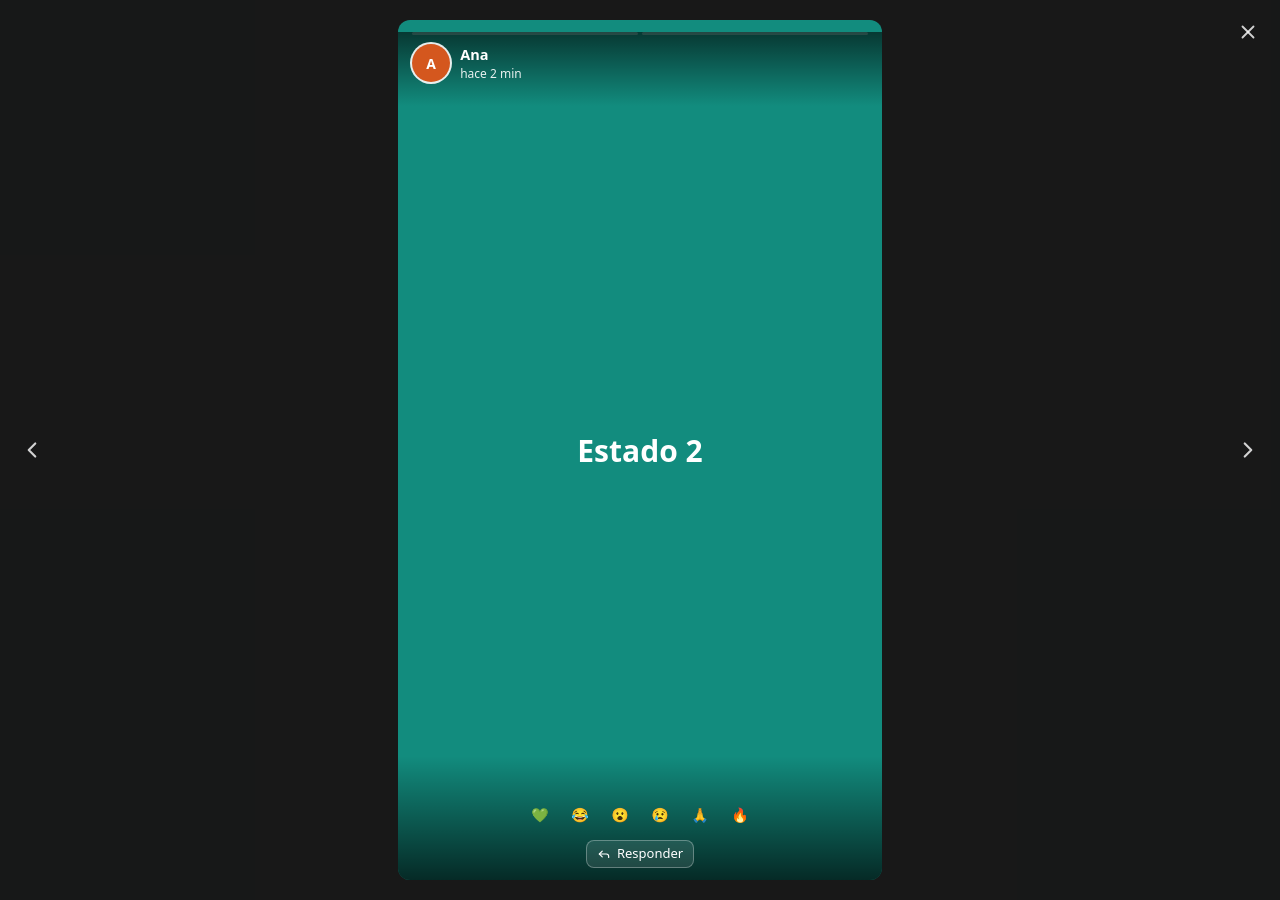
Test case: StoryViewer · pausa y teclado › un toque corto a la derecha avanza y a la izquierda retrocede
Press the mouse on the element with test id "story-stage" at (640, 450), box [398, 20, 882, 880]
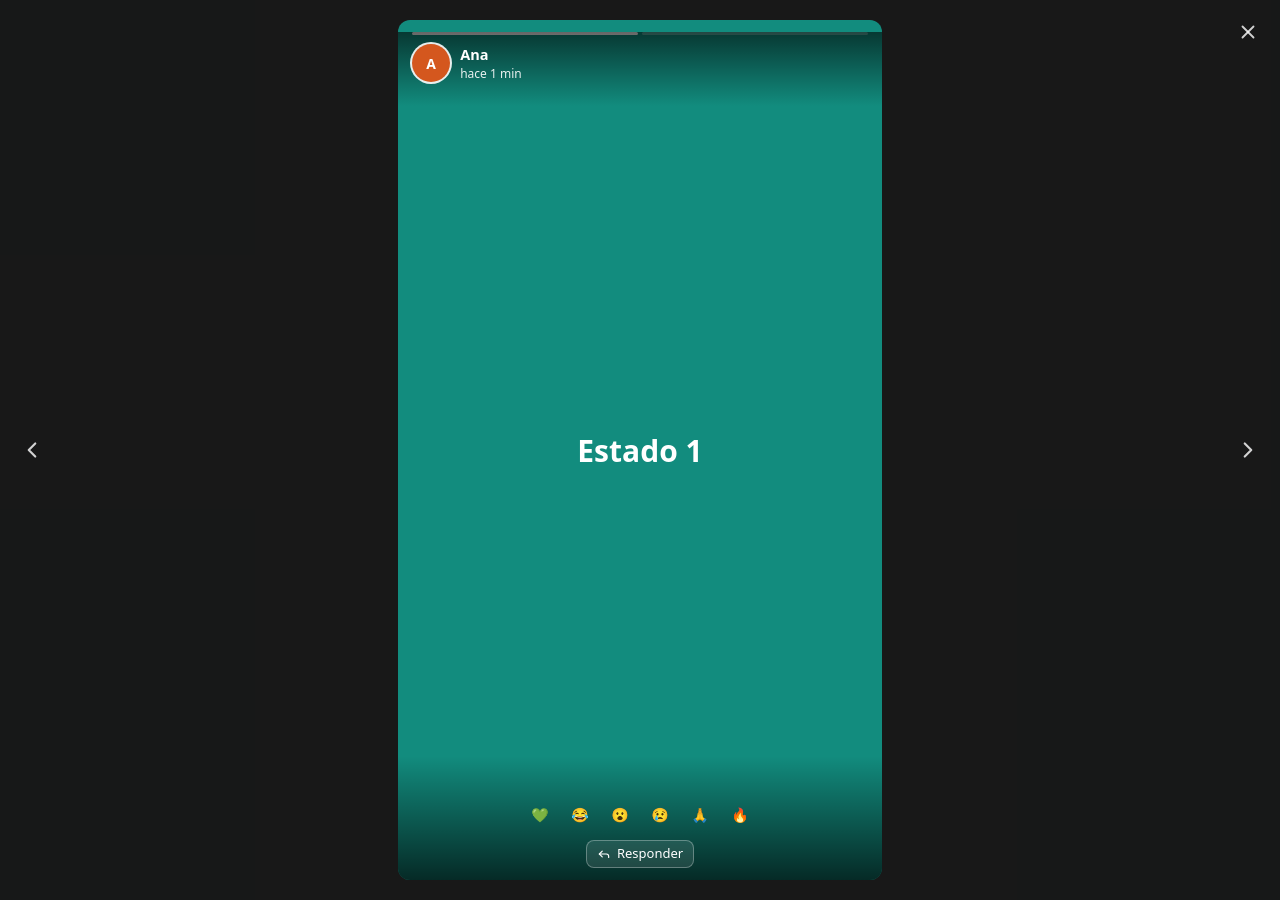
Now the dialog with test id "story-viewer" has attribute data-item="1"
Press the mouse on the element with test id "story-stage" at (640, 450), box [398, 20, 882, 880]
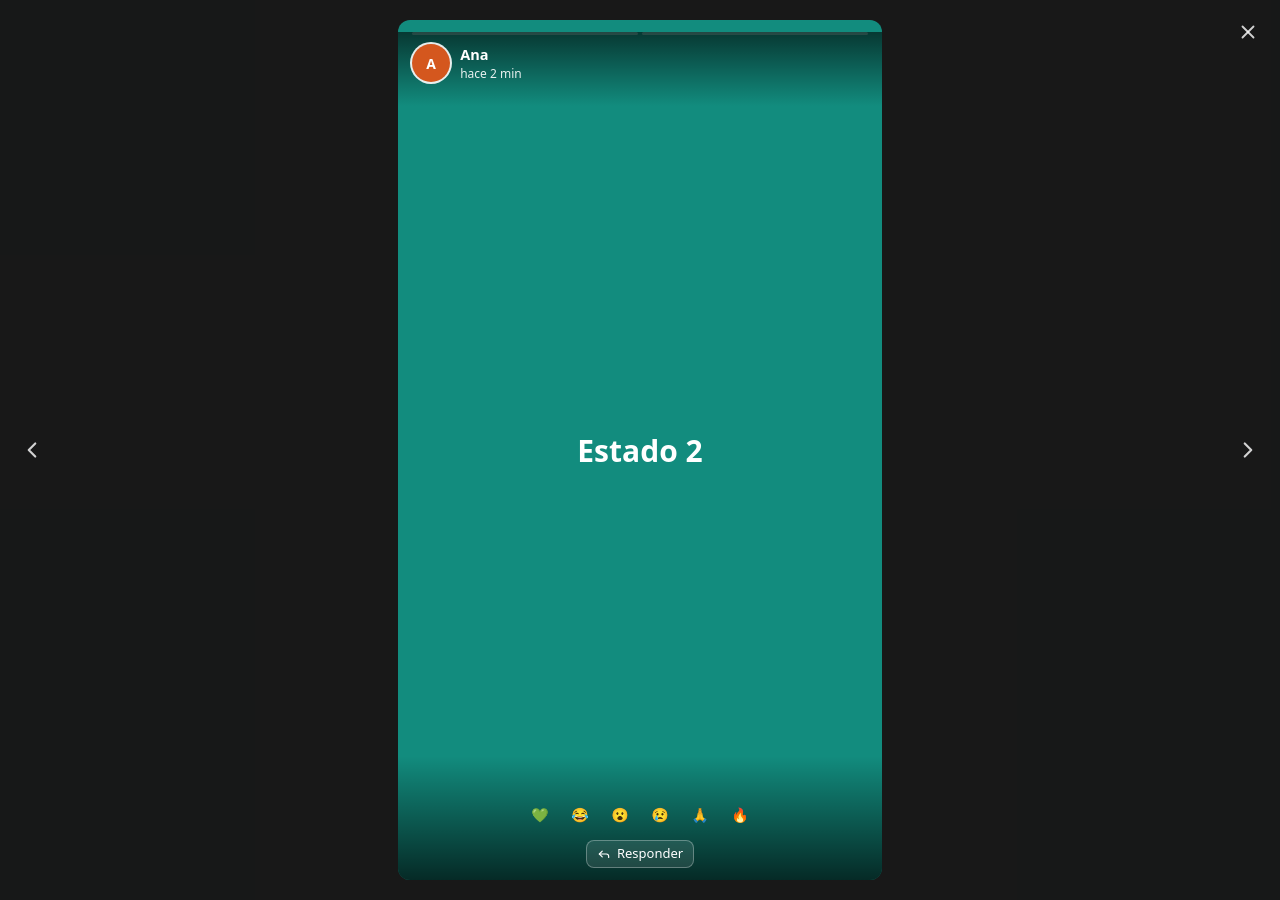
Now the dialog with test id "story-viewer" has attribute data-item="0"
